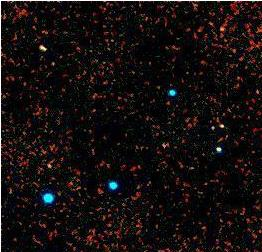star: (201, 118, 231, 148)
